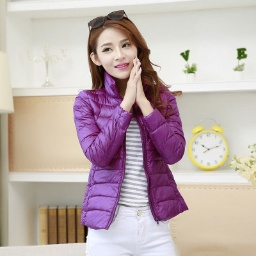face: (85, 12, 152, 85)
